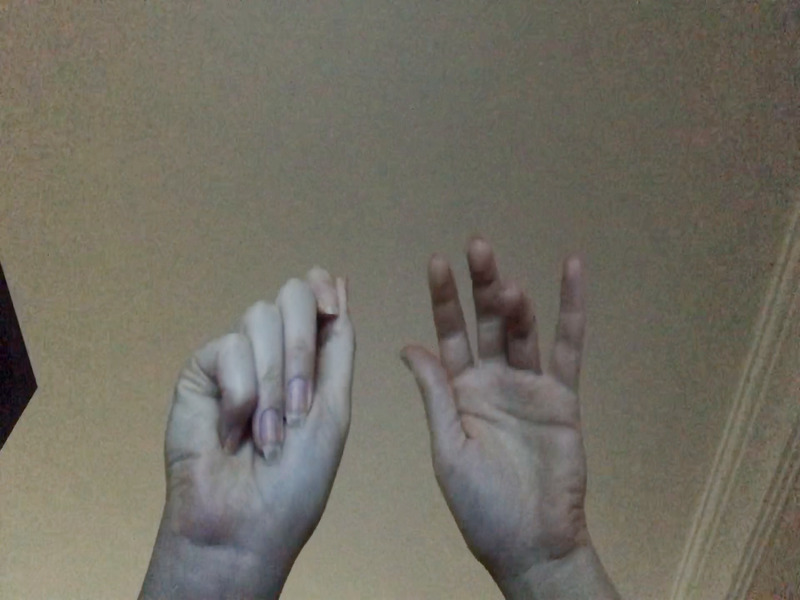hand: (402, 234, 603, 524), (156, 265, 356, 546)
